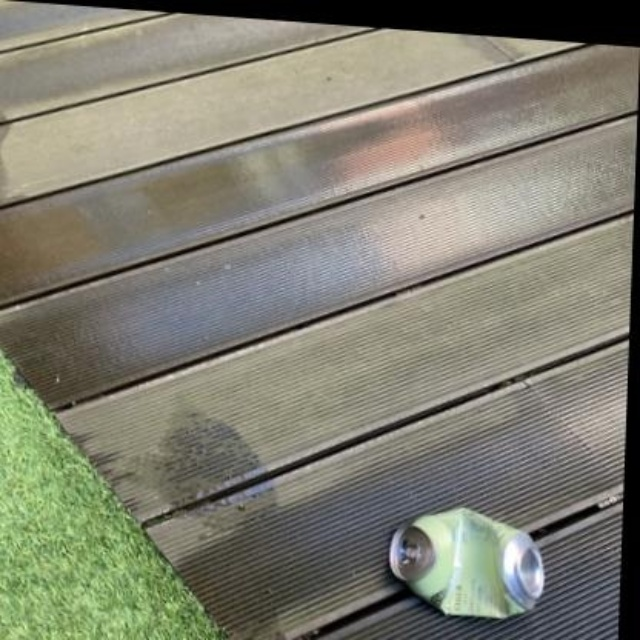trash: (389, 508, 543, 617)
